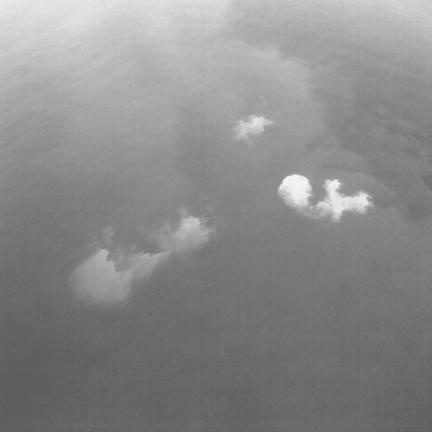flukeprints: (72, 249, 169, 305), (325, 180, 371, 219), (173, 215, 212, 245), (278, 175, 311, 210), (234, 115, 273, 144)
